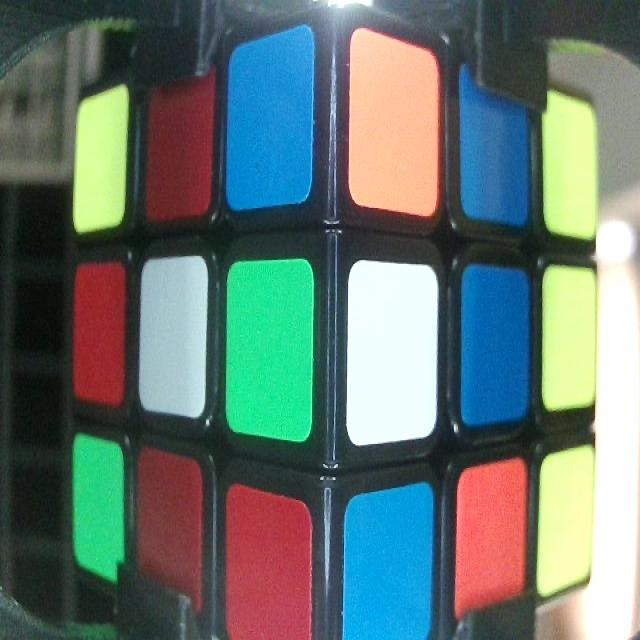b: (346, 509, 432, 637), (230, 64, 312, 190), (464, 272, 529, 410), (462, 104, 528, 210)
g: (226, 277, 312, 428), (73, 451, 121, 565)
o: (353, 66, 438, 195), (459, 484, 525, 594)
r: (229, 493, 308, 635), (140, 460, 200, 601), (148, 97, 208, 200), (75, 268, 120, 397)
w: (350, 281, 436, 421), (142, 275, 204, 394)
y: (547, 276, 594, 397), (544, 115, 596, 224), (544, 466, 590, 574), (77, 108, 123, 215)
